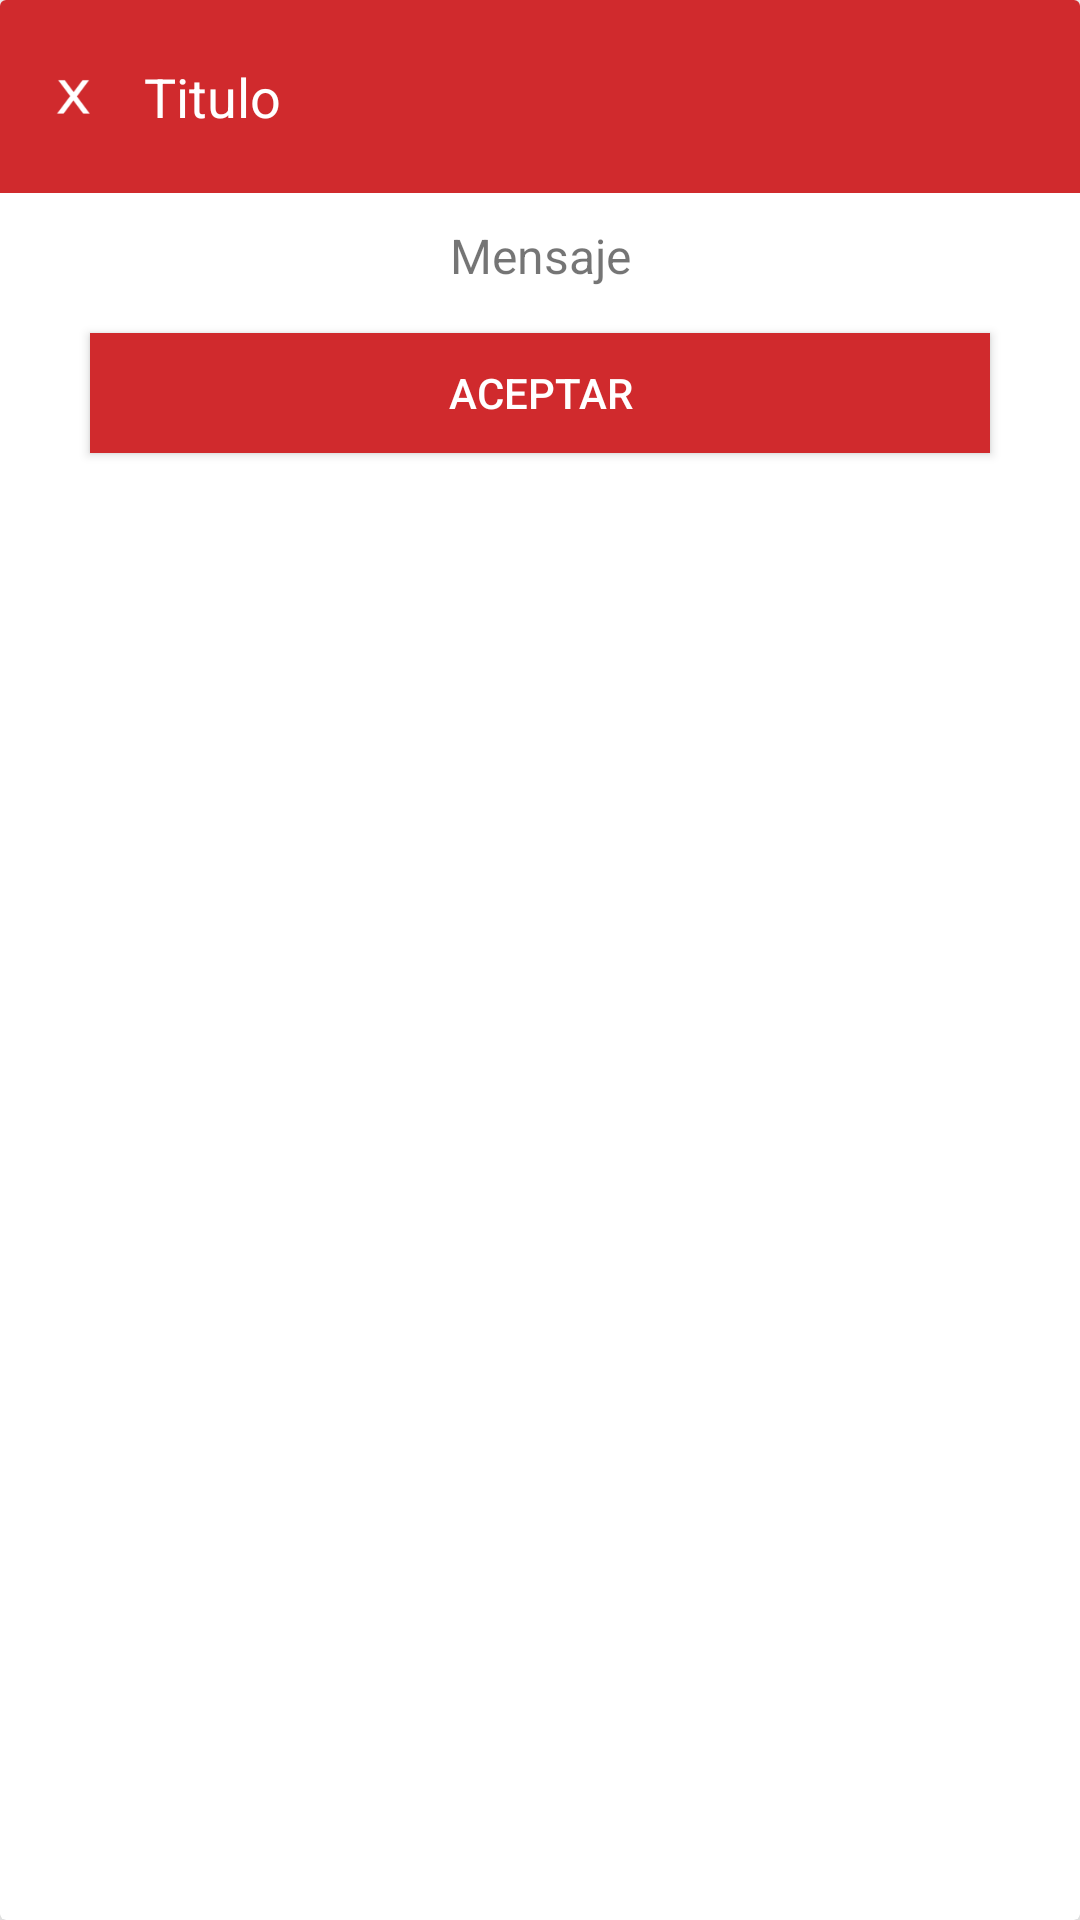

Named icons in this screenshot (1080px x 1920px) and their centers, point (x, y):
cerrar: point (73, 97)
